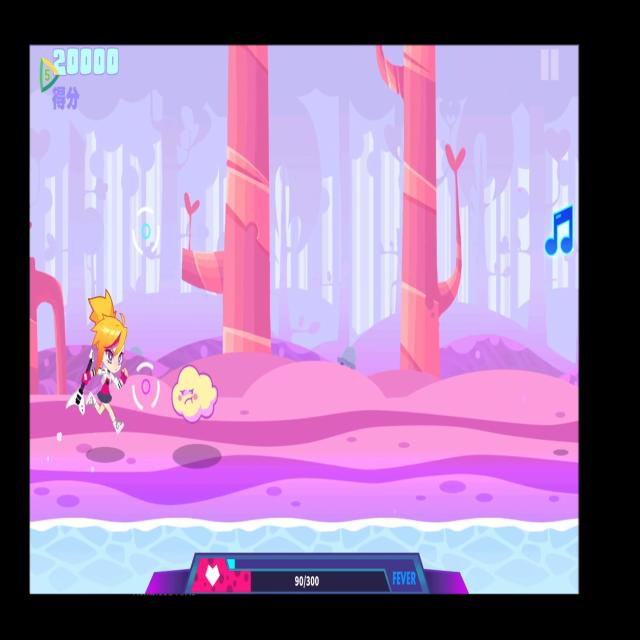Music note: (543, 200, 577, 264)
yun: (170, 357, 222, 432)
